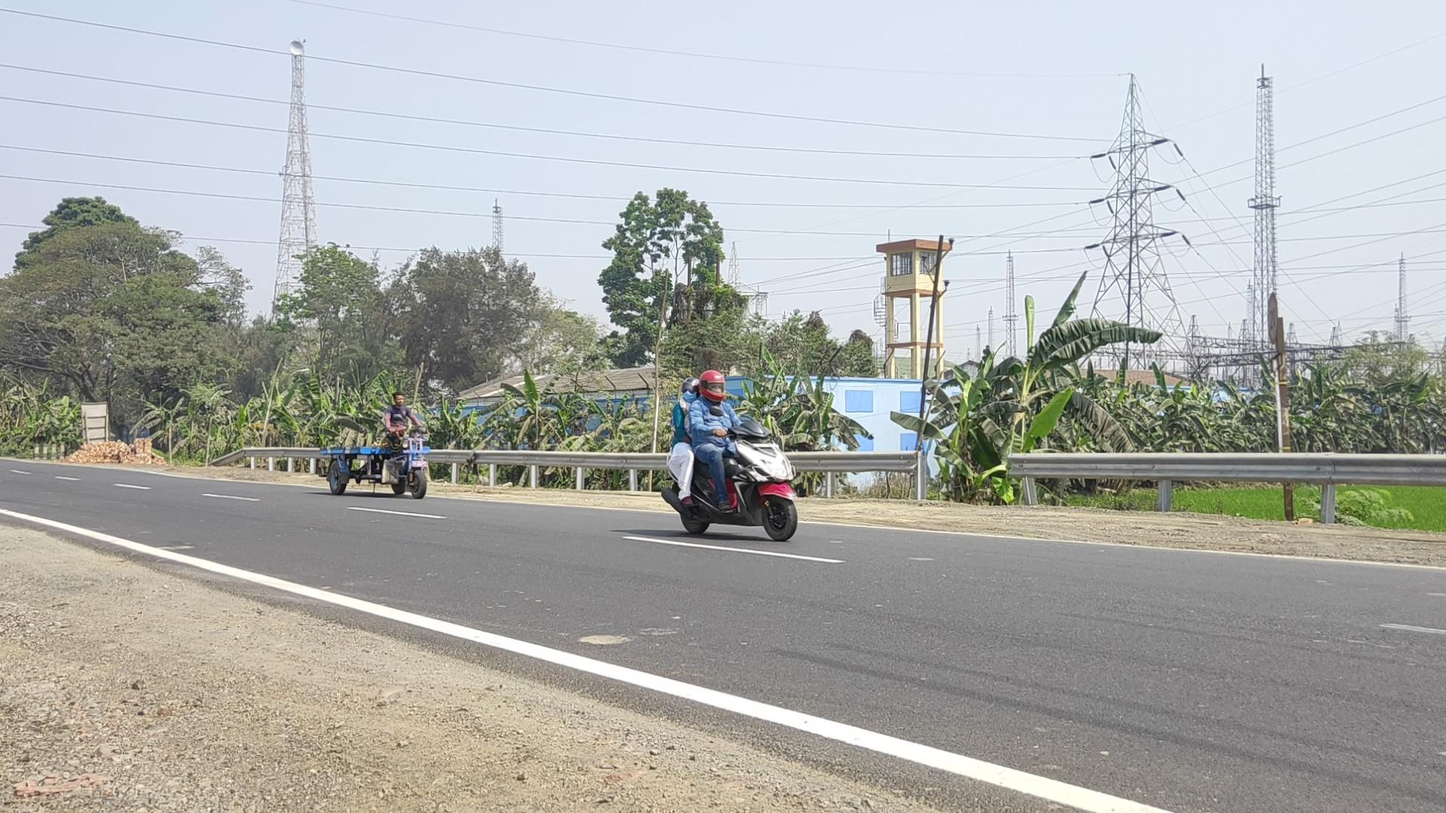bike: (660, 370, 799, 543)
